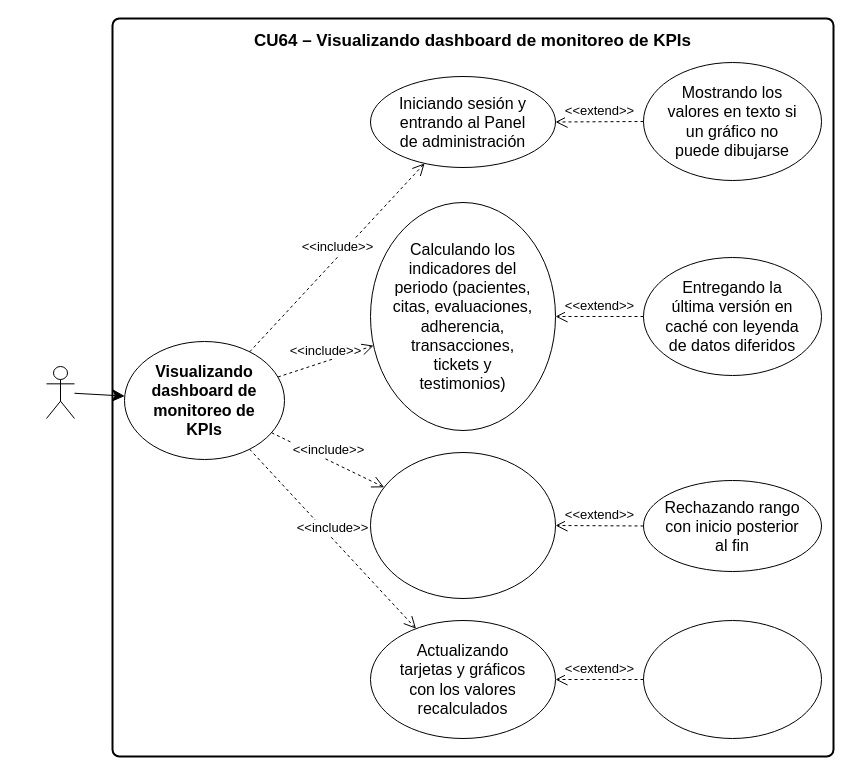
The diagram is 852 pixels wide and 774 high, and some of its shapes have lost their labels. The shapes that lost their labels are listed below. From the top down, each one's centre as x and y in pixels, then its label:
(60,392): Administrador
(463,525): Ajustando el rango de fechas o entrando a un pendiente de gestión
(732,679): Mostrando el indicador de carga y la opción de reintentar
